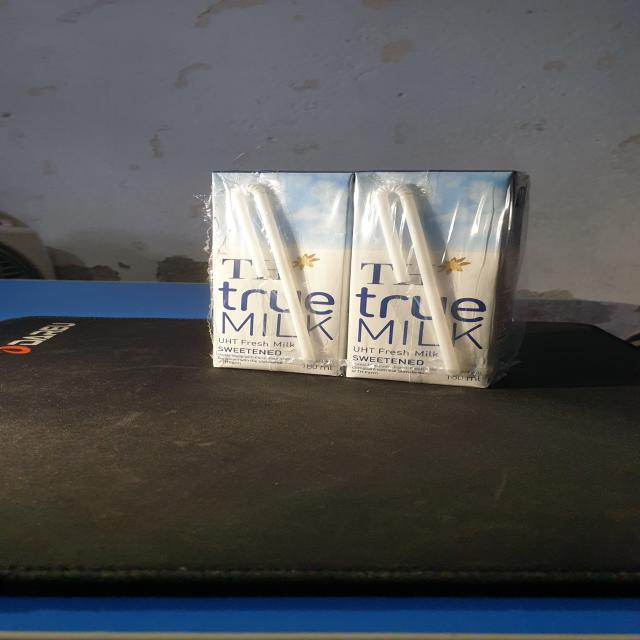TH: (342, 172, 529, 389), (208, 174, 358, 377)
